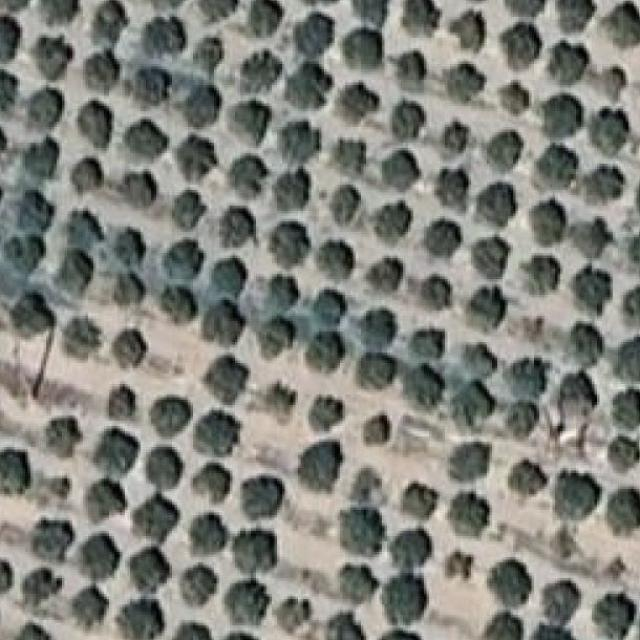Tree: (283, 59, 335, 112), (201, 352, 253, 404), (25, 27, 69, 82), (282, 10, 335, 54), (179, 512, 228, 559), (190, 405, 237, 453), (265, 220, 314, 266), (22, 127, 62, 183), (556, 468, 597, 522), (135, 14, 185, 58), (9, 293, 52, 344), (342, 510, 387, 558), (118, 597, 167, 640), (164, 185, 207, 234), (82, 48, 125, 97), (570, 263, 612, 313), (594, 590, 636, 640), (143, 440, 185, 490), (447, 442, 492, 488), (297, 439, 343, 484), (92, 431, 141, 473), (6, 186, 55, 228), (252, 314, 298, 358), (123, 116, 167, 162), (236, 528, 279, 575), (577, 164, 625, 206), (558, 368, 597, 419), (490, 557, 534, 602), (185, 30, 228, 76), (240, 473, 284, 517), (500, 20, 540, 68), (134, 494, 178, 537), (281, 116, 322, 162), (76, 534, 122, 575), (468, 237, 508, 284), (0, 235, 43, 278), (478, 130, 520, 174), (334, 80, 378, 122), (226, 582, 268, 626), (164, 237, 208, 279), (270, 590, 314, 632), (589, 106, 625, 155), (359, 310, 401, 352), (58, 316, 100, 358), (125, 546, 169, 586), (180, 77, 220, 121), (129, 67, 174, 106), (76, 101, 114, 147), (339, 564, 382, 604), (226, 99, 266, 142), (387, 573, 426, 617), (156, 284, 200, 323), (573, 216, 613, 258), (238, 52, 278, 94), (203, 300, 246, 339), (177, 132, 216, 175), (450, 489, 487, 534), (442, 62, 482, 103), (84, 482, 125, 522), (66, 158, 107, 198), (540, 94, 579, 136), (471, 184, 513, 223), (193, 460, 232, 502), (602, 4, 640, 47), (205, 258, 248, 296), (26, 88, 64, 131), (529, 198, 563, 246), (546, 43, 586, 83), (458, 378, 498, 418), (341, 30, 379, 72), (54, 248, 96, 286), (393, 526, 429, 570), (95, 1, 130, 46), (70, 586, 109, 626), (28, 520, 67, 560), (430, 167, 466, 210), (569, 321, 604, 365), (376, 197, 414, 237), (228, 158, 266, 198), (398, 484, 440, 520), (306, 331, 348, 367), (14, 568, 56, 604), (261, 276, 303, 312), (0, 447, 34, 491), (248, 0, 282, 44), (403, 326, 448, 359), (42, 416, 81, 454), (261, 381, 298, 421), (219, 206, 256, 246), (316, 239, 352, 280), (304, 389, 345, 425), (326, 184, 363, 223), (542, 583, 582, 619), (62, 211, 102, 247), (307, 287, 348, 322), (590, 64, 628, 101), (536, 147, 573, 185), (422, 224, 462, 259), (366, 256, 403, 293), (467, 288, 505, 324), (508, 361, 546, 397), (523, 253, 558, 292), (147, 398, 186, 433), (609, 487, 640, 531), (508, 461, 546, 496), (407, 365, 445, 400), (399, 48, 429, 92), (37, 0, 81, 30), (404, 0, 440, 36), (272, 169, 308, 205), (120, 169, 158, 203), (421, 277, 455, 314), (348, 461, 382, 498), (102, 384, 135, 422), (392, 101, 427, 136), (108, 332, 142, 368), (332, 136, 364, 174), (356, 358, 394, 390), (0, 15, 25, 63), (382, 148, 415, 184), (356, 416, 392, 449), (109, 232, 146, 264), (496, 79, 529, 113), (504, 402, 539, 434), (444, 547, 476, 582), (461, 340, 497, 371), (454, 15, 487, 48), (441, 120, 468, 160), (185, 576, 219, 607), (487, 609, 521, 640), (41, 476, 72, 510), (610, 391, 640, 426), (558, 0, 594, 29), (617, 337, 640, 382), (196, 0, 238, 24), (112, 274, 143, 306), (605, 442, 640, 469), (621, 279, 640, 322), (356, 0, 390, 24), (324, 620, 364, 640), (172, 620, 209, 640), (12, 620, 48, 640), (0, 555, 18, 593), (376, 627, 426, 640), (523, 630, 579, 640), (626, 235, 640, 273), (0, 67, 10, 119), (504, 0, 539, 14), (219, 630, 265, 640), (634, 174, 640, 221), (0, 171, 4, 211), (0, 120, 4, 156)
